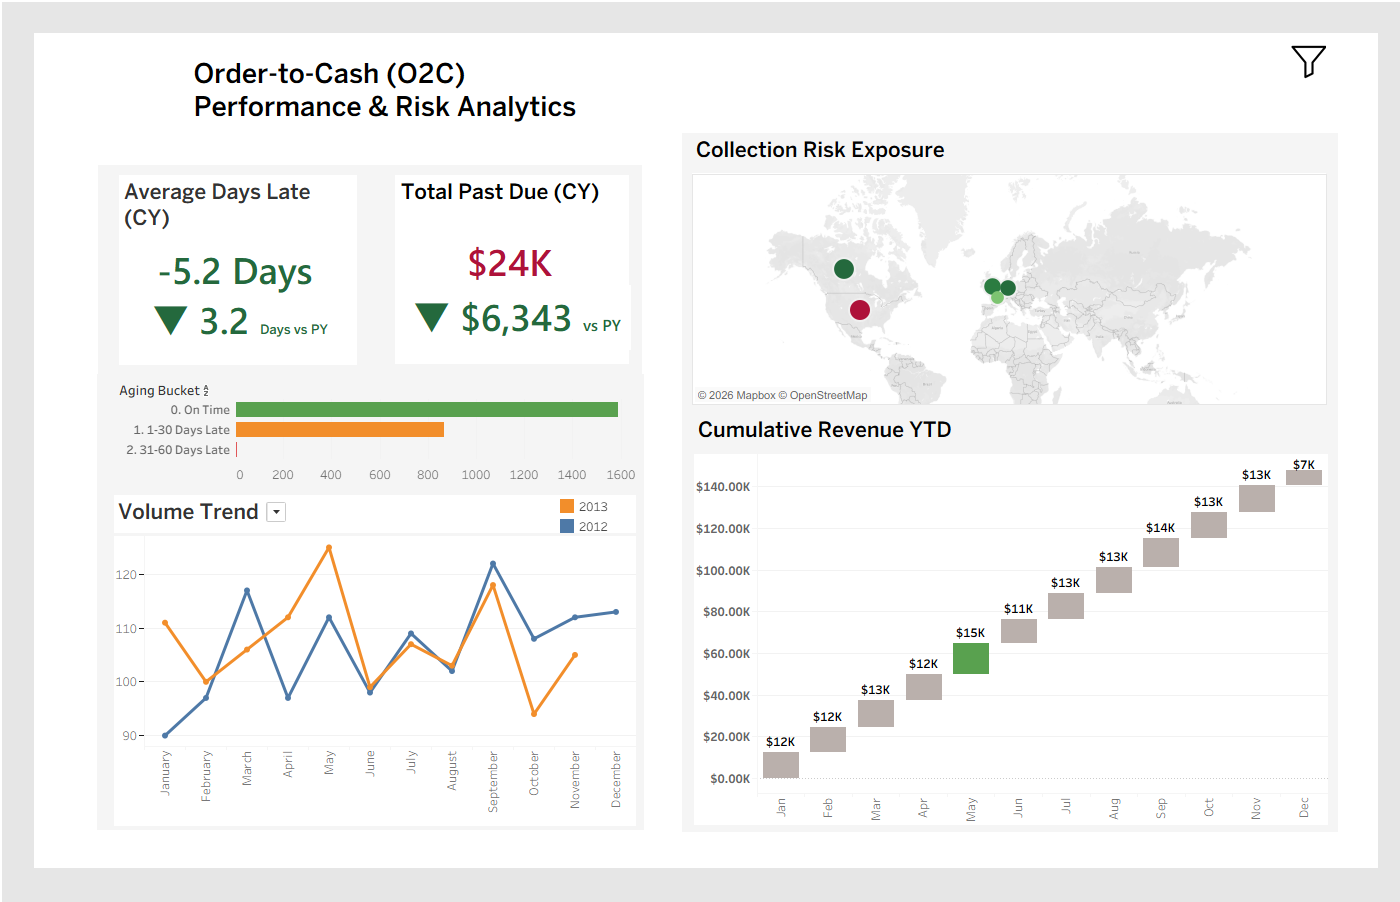

The dashboard page shown, as its layout file describes it:
{"tool":"tableau","page":{"name":"Dashboard","canvas":[1400,900],"ordinal":0},"visuals":[{"type":"text","box":[0,0,1399,900]},{"type":"title","box":[8,8,1384,42]},{"type":"blank","box":[1048,30,225,102]},{"type":"setMembership","title":"Trend","param":"[federated.0jbvji9157nayw1co5l6102z4gh7].[Country Name Set]","box":[1048,30,225,102]},{"type":"text","box":[32,31,1344,835]},{"type":"dashboard-object","box":[1289,42,35,35]},{"type":"text","box":[189,48,390,82]},{"type":"legend","title":"KPI","param":"[federated.0jbvji9157nayw1co5l6102z4gh7].[usr:Calculation_1068455537078278:qk]","box":[1232,50,160,131]},{"type":"text","box":[680,131,656,699]},{"type":"worksheet","title":"Geographic Risk","mark":"Automatic","box":[690,131,635,272]},{"type":"text","box":[96,163,544,215]},{"type":"text","box":[117,173,238,190]},{"type":"worksheet","title":"KPI","mark":"Automatic","box":[118,173,260,190]},{"type":"text","box":[393,173,234,189]},{"type":"worksheet","title":"KPI2.1","mark":"Automatic","box":[395,173,232,135]},{"type":"legend","title":"Aging Bar","param":"[federated.0jbvji9157nayw1co5l6102z4gh7].[none:AgingBucket:nk]","box":[1232,181,160,86]},{"type":"legend","title":"Gantt Chart","param":"[federated.0jbvji9157nayw1co5l6102z4gh7].[usr:Calculation_1068455543070728:nk]","box":[1232,267,160,66]},{"type":"worksheet","title":"KPI2","mark":"Automatic","box":[393,283,237,65]},{"type":"legend","title":"Trend","param":"[federated.0jbvji9157nayw1co5l6102z4gh7].[sum:Calculation_1068455540555783:qk]","box":[1232,333,160,22]},{"type":"worksheet","title":"Aging Bar","mark":"Automatic","rows":["AgingBucket"],"cols":["Calculation_1068455519703040"],"box":[113,362,522,129]},{"type":"text","box":[95,372,547,456]},{"type":"worksheet","title":"Gantt Chart","mark":"GanttBar","rows":["InvoiceAmount"],"cols":["InvoiceDate"],"box":[692,411,634,412]},{"type":"worksheet","title":"Trend","mark":"Line","rows":["Calculation_1068455519703040"],"cols":["InvoiceDate"],"box":[112,493,522,331]},{"type":"legend","title":"Trend","param":"[federated.0jbvji9157nayw1co5l6102z4gh7].[yr:InvoiceDate:ok]","box":[555,494,73,41]},{"type":"parameter","param":"[Parameters].[Parameter 1]","box":[261,497,26,28]}]}

Visuals, with their boxes in screenshot pixels (x1, y1, x2, y2), scaled from the page's 1400x900 canvas onto the 1400x902 screenshot:
text: 0,0,1399,901
title: 8,8,1392,50
blank: 1048,30,1273,132
"Trend" setMembership: 1048,30,1273,132
text: 32,31,1376,868
dashboard-object: 1289,42,1324,77
text: 189,48,579,130
"KPI" legend: 1232,50,1392,181
text: 680,131,1336,832
"Geographic Risk" worksheet: 690,131,1325,404
text: 96,163,640,379
text: 117,173,355,364
"KPI" worksheet: 118,173,378,364
text: 393,173,627,363
"KPI2.1" worksheet: 395,173,627,309
"Aging Bar" legend: 1232,181,1392,268
"Gantt Chart" legend: 1232,268,1392,334
"KPI2" worksheet: 393,284,630,349
"Trend" legend: 1232,334,1392,356
"Aging Bar" worksheet: 113,363,635,492
text: 95,373,642,830
"Gantt Chart" worksheet (GanttBar marks): 692,412,1326,825
"Trend" worksheet (Line marks): 112,494,634,826
"Trend" legend: 555,495,628,536
parameter: 261,498,287,526
